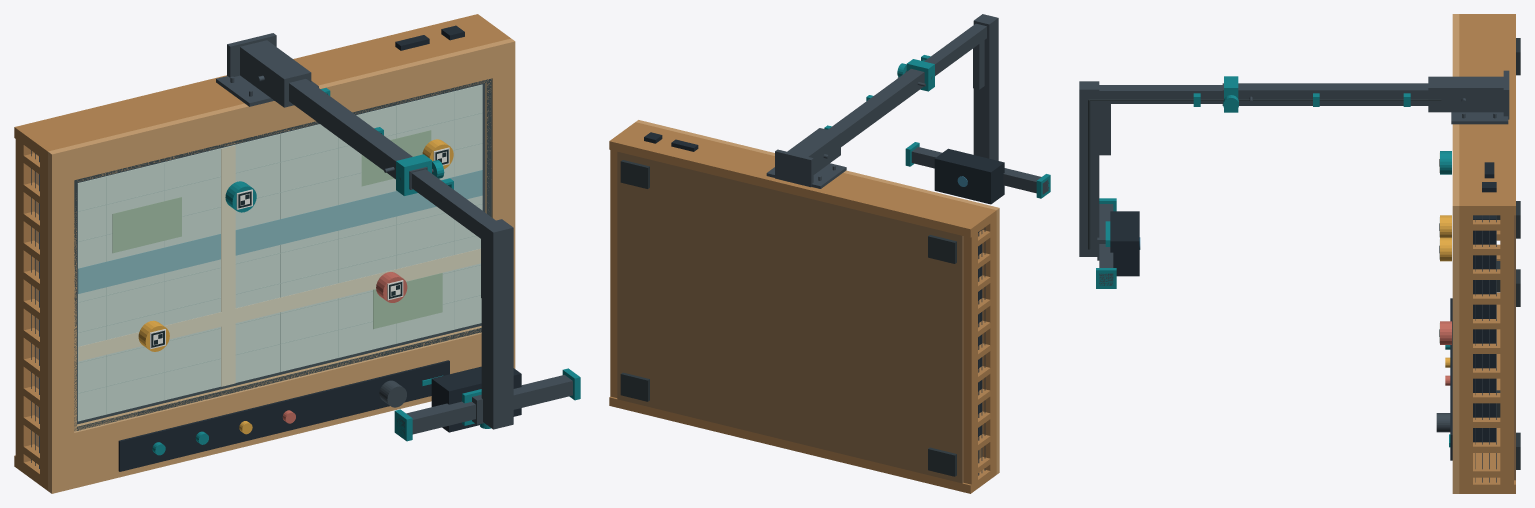
File: skeye_compact.obj
3 renders of one model, left to right at view 1: azimuth 30°, elevation 25°; view 2: azimuth 150°, elevation 25°; view 3: azimuth 270°, elevation 25°, orthographic. The views are drawn at different scales.
Visible parts, largest first — view 1: 057_Protective_sheet_—_perimeter_supported, 056_Active_screen_698_x_393, 006_Oak_front_or_rear_wall, 048_Rear_rim, 047_Front_control_ledge, 114_Printed_controller_faceplate, 076_Virtual_river, 045_Oak_rim_side, 144_Camera_boom, 078_Virtual_road_east-west, 046_Oak_rim_side, 007_Oak_side_rail (+24 smaller); view 2: 004_Removable_plywood_service_bottom, 006_Oak_front_or_rear_wall, 007_Oak_side_rail, 005_Oak_front_or_rear_wall, 152_C960_camera_envelope_—_clip_approximate, 144_Camera_boom, 008_Oak_side_rail, 024_Oak_side_rail, 128_Outer_mast_X_wall, 123_Mast_lower_foot, 146_X_slide_rail, 131_Outer_mast_Y_wall (+12 smaller); view 3: 006_Oak_front_or_rear_wall, 024_Oak_side_rail, 025_Oak_side_rail, 144_Camera_boom, 055_Replaceable_display_envelope_—_mounting_TBD, 130_Outer_mast_X_wall, 126_Removable_mast_socket_side, 152_C960_camera_envelope_—_clip_approximate, 042_Oak_rim_side, 005_Oak_front_or_rear_wall, 134_Sliding_inner_mast_X_wall, 131_Outer_mast_Y_wall (+9 smaller).
Part boxes in pixels (bbox=[...]): 057_Protective_sheet_—_perimeter_supported: bbox=[75, 82, 492, 431]; 056_Active_screen_698_x_393: bbox=[77, 84, 482, 421]; 006_Oak_front_or_rear_wall: bbox=[14, 14, 510, 162]; 048_Rear_rim: bbox=[73, 46, 492, 180]; 047_Front_control_ledge: bbox=[74, 332, 481, 488]; 114_Printed_controller_faceplate: bbox=[118, 360, 449, 471]; 076_Virtual_river: bbox=[78, 170, 482, 293]; 045_Oak_rim_side: bbox=[50, 148, 74, 493]; 144_Camera_boom: bbox=[481, 219, 513, 429]; 078_Virtual_road_east-west: bbox=[78, 248, 480, 361]; 046_Oak_rim_side: bbox=[491, 40, 515, 368]; 007_Oak_side_rail: bbox=[15, 139, 34, 462]; 004_Removable_plywood_service_bottom: bbox=[617, 151, 963, 483]; 006_Oak_front_or_rear_wall: bbox=[609, 122, 996, 237]; 007_Oak_side_rail: bbox=[963, 232, 977, 484]; 005_Oak_front_or_rear_wall: bbox=[609, 396, 996, 493]; 152_C960_camera_envelope_—_clip_approximate: bbox=[934, 148, 1004, 204]; 144_Camera_boom: bbox=[973, 14, 998, 160]; 008_Oak_side_rail: bbox=[982, 219, 996, 470]; 024_Oak_side_rail: bbox=[610, 150, 617, 397]; 128_Outer_mast_X_wall: bbox=[840, 72, 924, 146]; 123_Mast_lower_foot: bbox=[775, 149, 813, 187]; 146_X_slide_rail: bbox=[911, 147, 1049, 194]; 131_Outer_mast_Y_wall: bbox=[829, 69, 923, 132]; 006_Oak_front_or_rear_wall: bbox=[1459, 14, 1515, 215]; 024_Oak_side_rail: bbox=[1500, 215, 1513, 484]; 025_Oak_side_rail: bbox=[1459, 215, 1472, 484]; 144_Camera_boom: bbox=[1079, 81, 1099, 256]; 055_Replaceable_display_envelope_—_mounting_TBD: bbox=[1473, 215, 1495, 442]; 130_Outer_mast_X_wall: bbox=[1222, 90, 1428, 105]; 126_Removable_mast_socket_side: bbox=[1428, 86, 1503, 112]; 152_C960_camera_envelope_—_clip_approximate: bbox=[1110, 211, 1139, 276]; 042_Oak_rim_side: bbox=[1454, 195, 1459, 493]; 005_Oak_front_or_rear_wall: bbox=[1459, 292, 1515, 493]; 134_Sliding_inner_mast_X_wall: bbox=[1099, 90, 1222, 103]; 131_Outer_mast_Y_wall: bbox=[1222, 83, 1428, 89].
Size of the model in its own units: 0.8 by 0.6175 by 0.7775.
